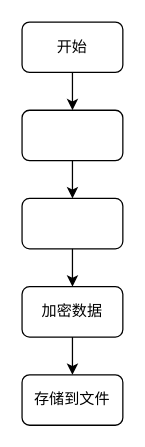
Some shapes in this 145 by 447 pixel diagram are drawn without their labels. Each missing label, with the box of its shape:
生成密钥: (21, 197, 123, 249)
输入仓库密码: (21, 109, 123, 161)
